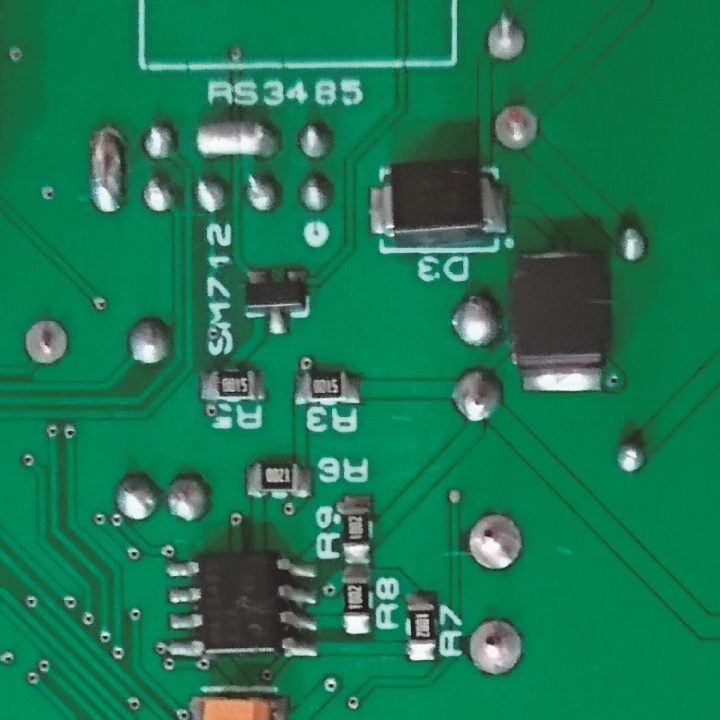F: (465, 509, 528, 575), (465, 616, 527, 681), (486, 5, 529, 69), (493, 102, 544, 154), (21, 319, 67, 367)
P: (84, 121, 130, 218), (191, 118, 286, 163)
